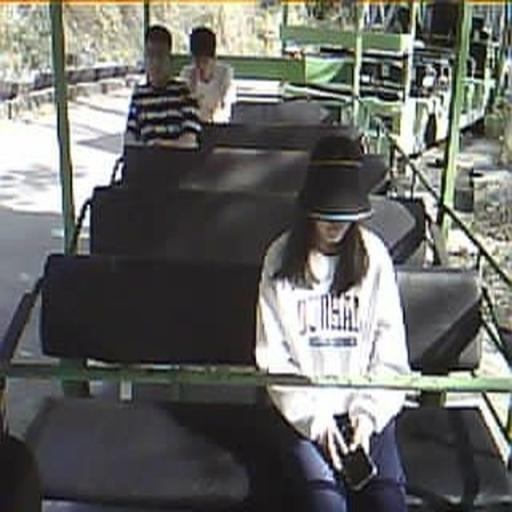persona: (253, 132, 413, 510), (122, 23, 204, 158), (178, 26, 234, 124)
